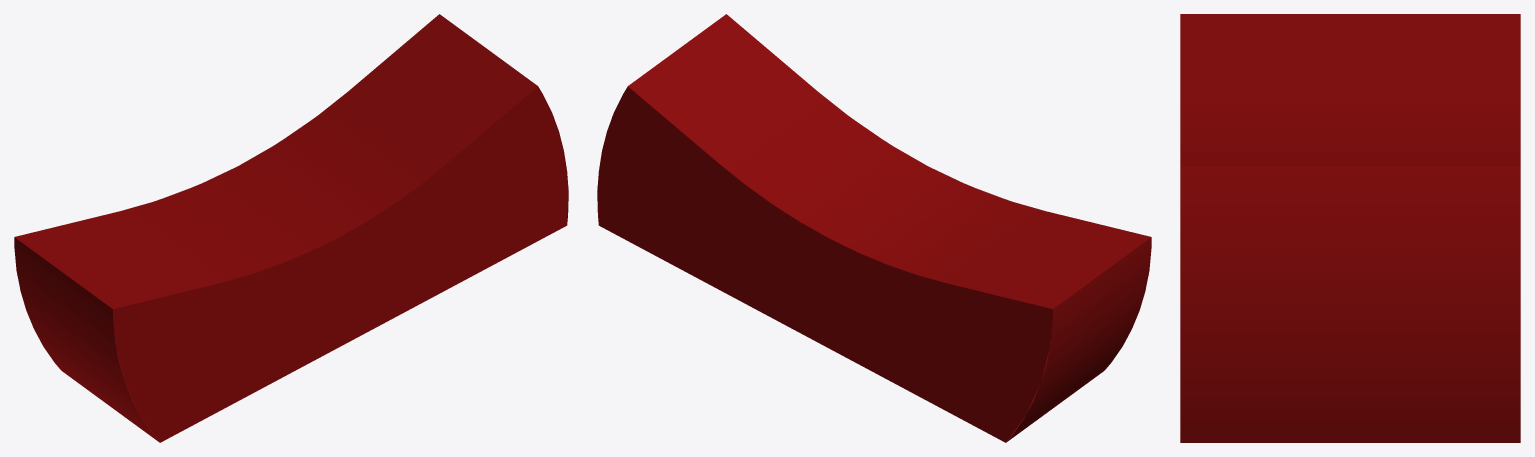
File: button_off.obj
3 renders of one model, left to right at view 1: azimuth 30°, elevation 25°; view 2: azimuth 150°, elevation 25°; view 3: azimuth 270°, elevation 25°, orthographic. The views are drawn at different scales.
Visible parts, largest first — view 1: 1_DC_Shell; view 2: 1_DC_Shell; view 3: 1_DC_Shell.
Boxes of the visible parts, bbox=[...] form: 1_DC_Shell: bbox=[14, 14, 568, 442]; 1_DC_Shell: bbox=[597, 14, 1151, 442]; 1_DC_Shell: bbox=[1180, 14, 1520, 442].
Bounding box in the file's own units: 20 × 11.09 × 7.5.
